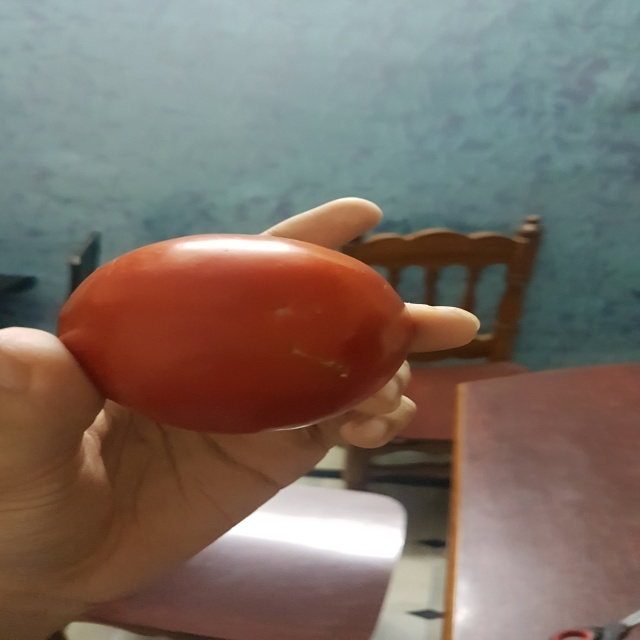tomato: (52, 234, 415, 434)
